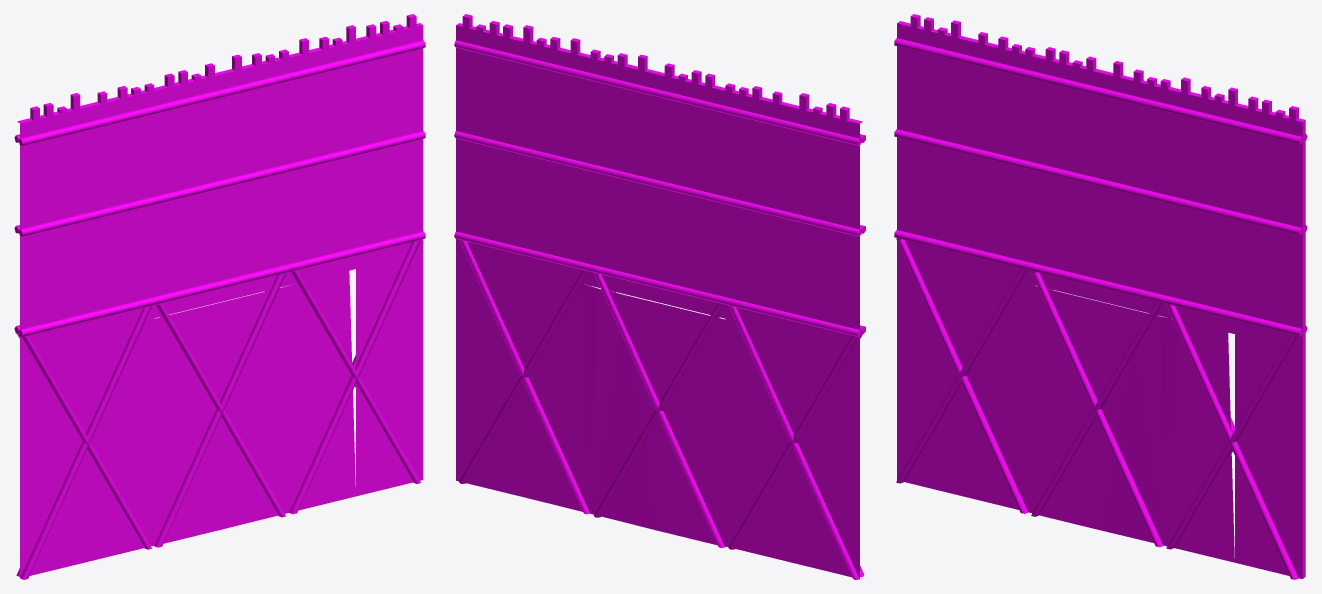
The model's file is palisade_bamboo_long.glb.
3 renders of one model, left to right at view 1: azimuth 30°, elevation 25°; view 2: azimuth 150°, elevation 25°; view 3: azimuth 330°, elevation 25°, orthographic.
Parts seen in each view (by area): view 1: palisade_bamboo_long-mesh; view 2: palisade_bamboo_long-mesh; view 3: palisade_bamboo_long-mesh.
Part boxes in pixels (x1,y1,x2,y2): palisade_bamboo_long-mesh: (14,14,425,579); palisade_bamboo_long-mesh: (454,14,865,579); palisade_bamboo_long-mesh: (894,14,1307,579).
Size of the model in its own units: 14.36 by 15.97 by 0.4917.
